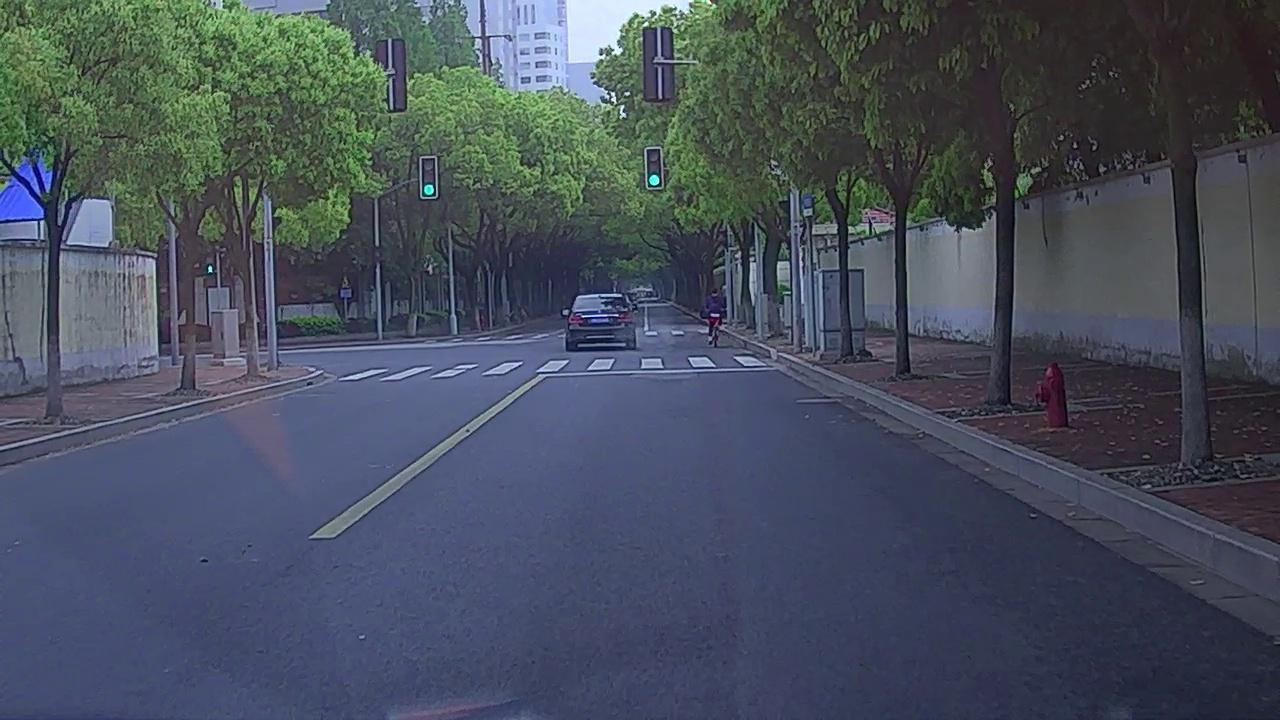traffic_light: (421, 156, 437, 198), (647, 149, 661, 188)
